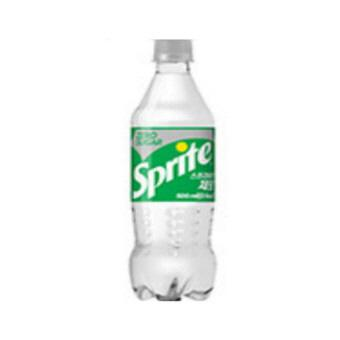sprite_zero: (127, 20, 227, 304)
